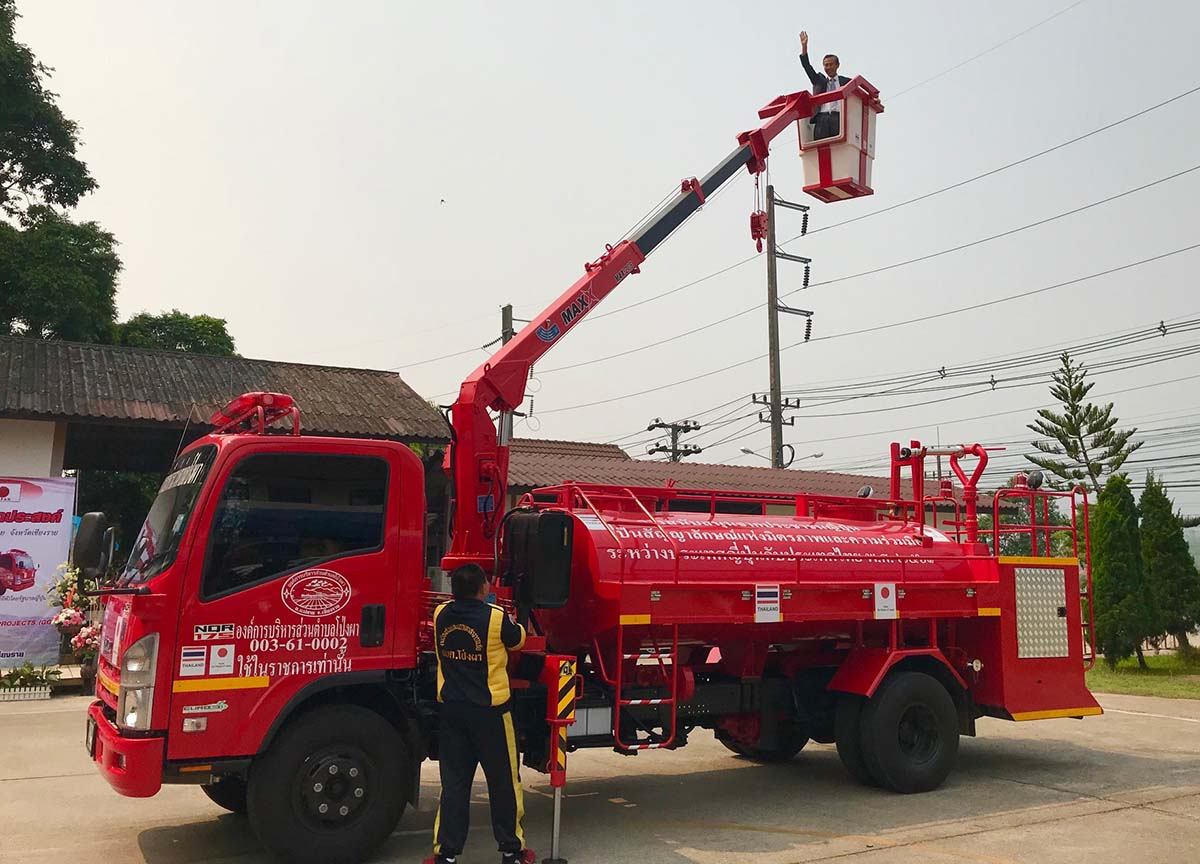truck: (91, 403, 421, 858)
